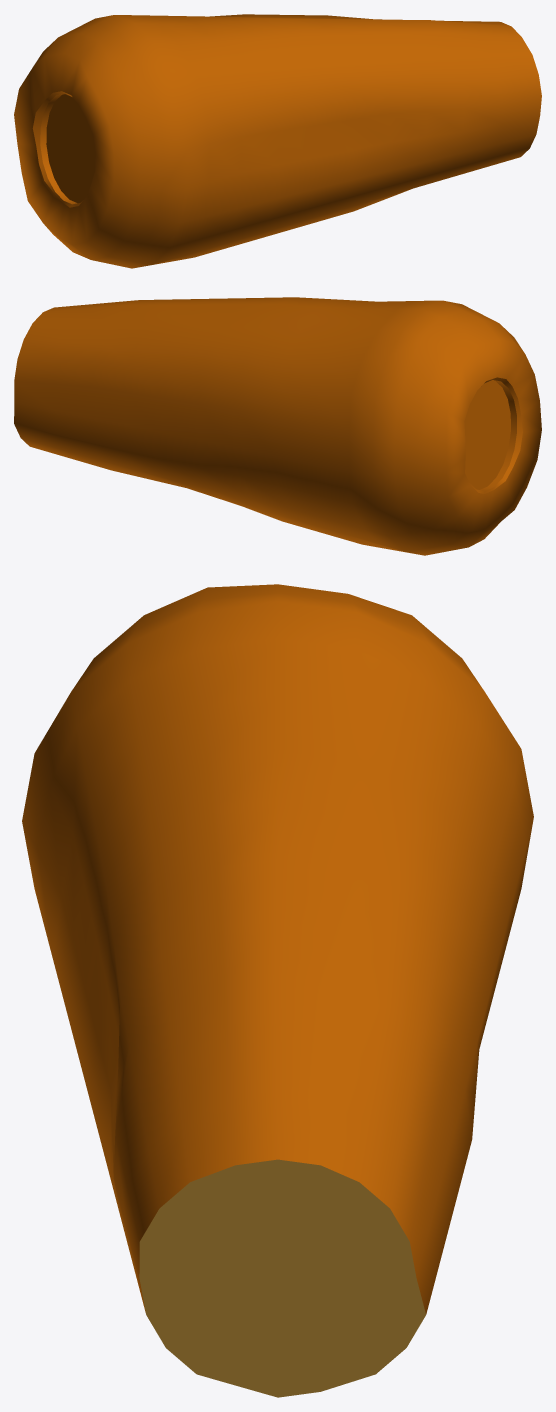
Rendered from mesh_Carrot_Stage06.fbx.
The picture shows the model from 3 angles, top to bottom: view 1: azimuth 30°, elevation 25°; view 2: azimuth 150°, elevation 25°; view 3: azimuth 270°, elevation 25°; orthographic projection. The views are drawn at different scales.
Visible parts, largest first — view 1: mesh_Carrot_Stage6; view 2: mesh_Carrot_Stage6; view 3: mesh_Carrot_Stage6.
Boxes of the visible parts, box(x1,y1,x2,y2) form: mesh_Carrot_Stage6: box(14, 14, 541, 268); mesh_Carrot_Stage6: box(14, 297, 541, 555); mesh_Carrot_Stage6: box(22, 584, 533, 1397).
Bounding box in the file's own units: 0.1049 × 0.0519 × 0.051.
